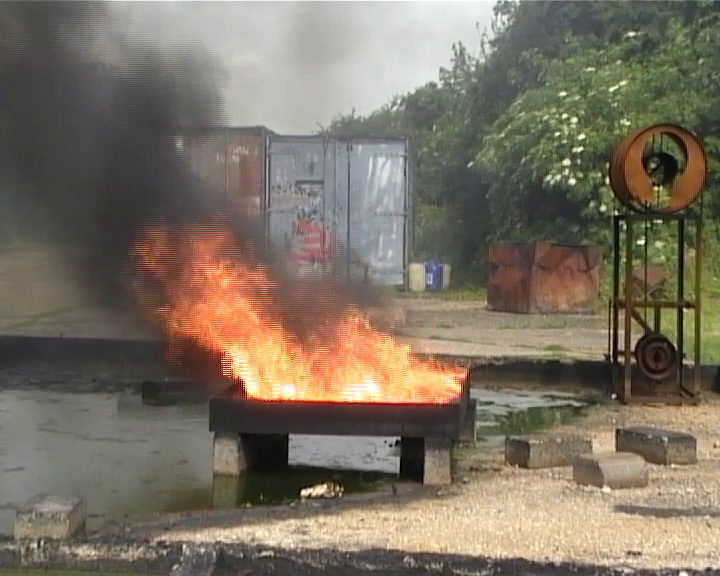fire: (145, 221, 463, 401)
